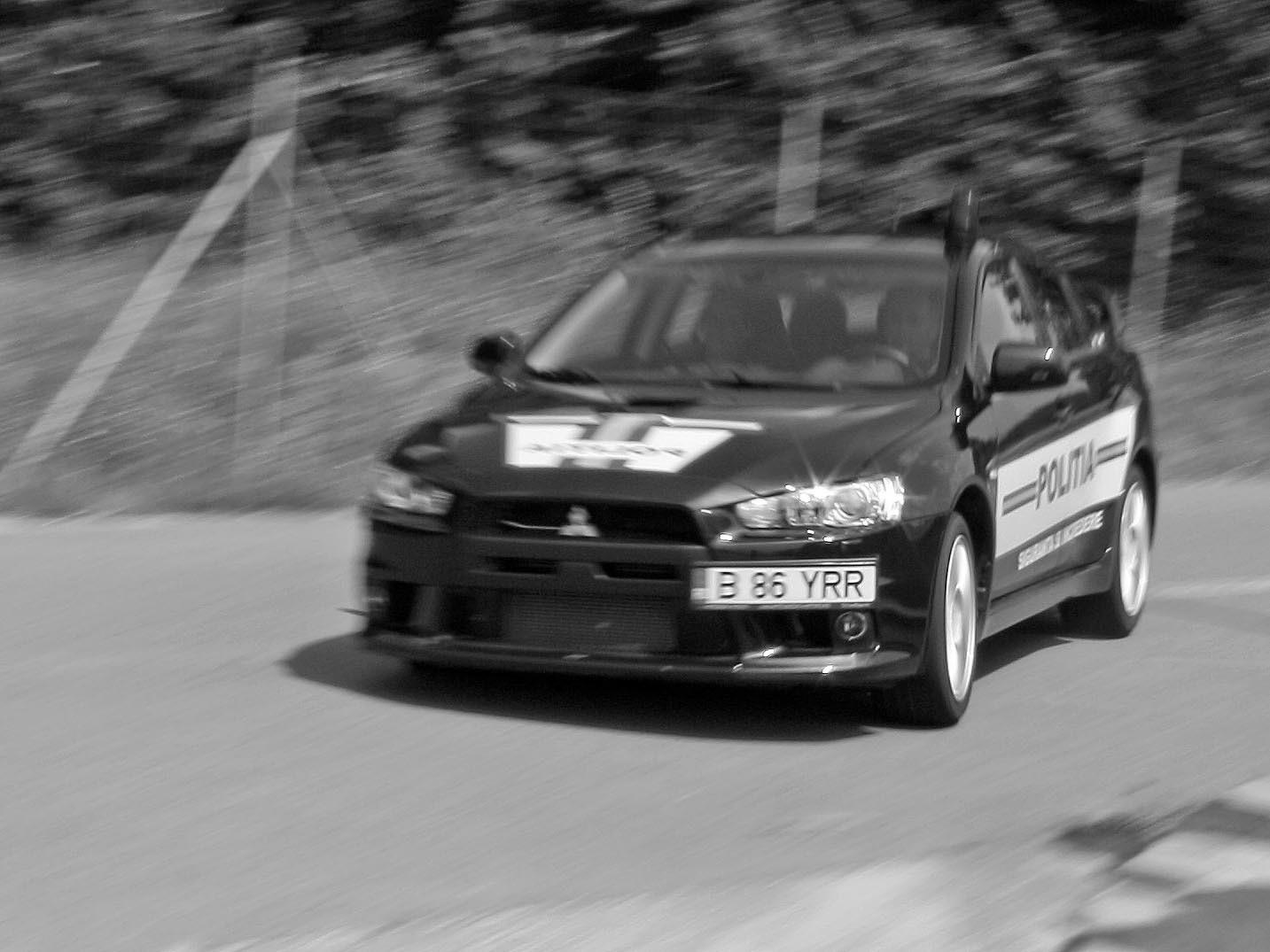car: (334, 177, 1164, 729)
